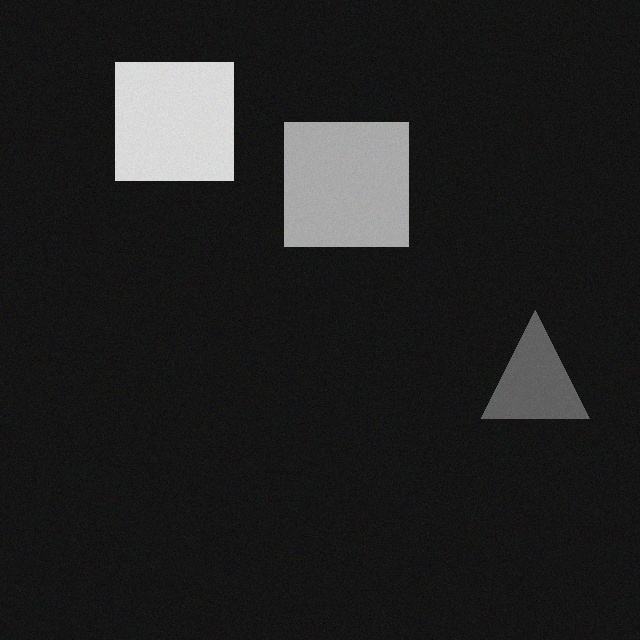square: (271, 135, 395, 259), (102, 75, 220, 193)
triangle: (468, 323, 576, 431)
